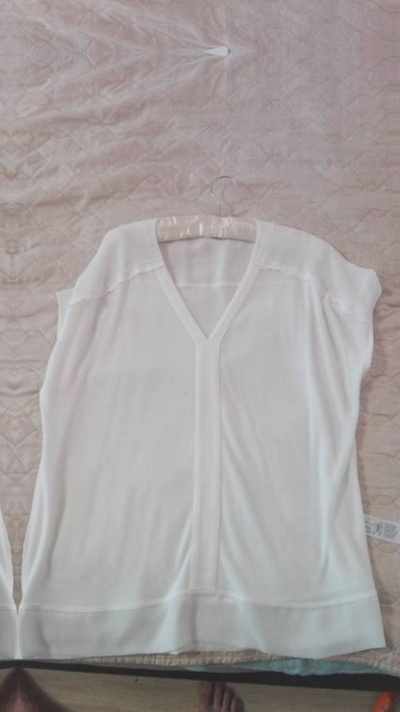Blouse: (16, 179, 391, 688), (0, 184, 13, 694)
